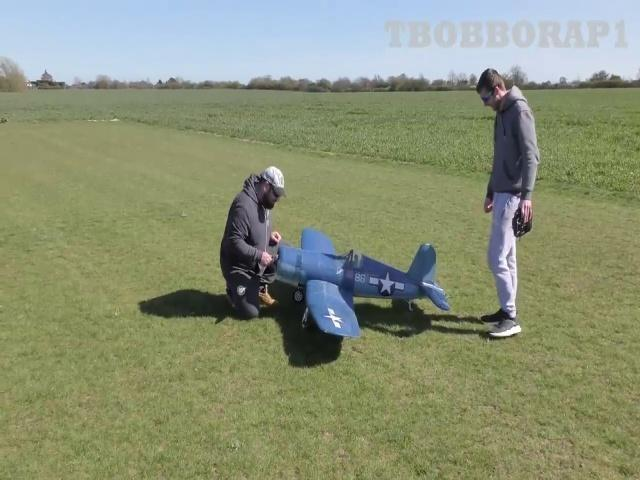Airplane: (273, 229, 450, 335)
